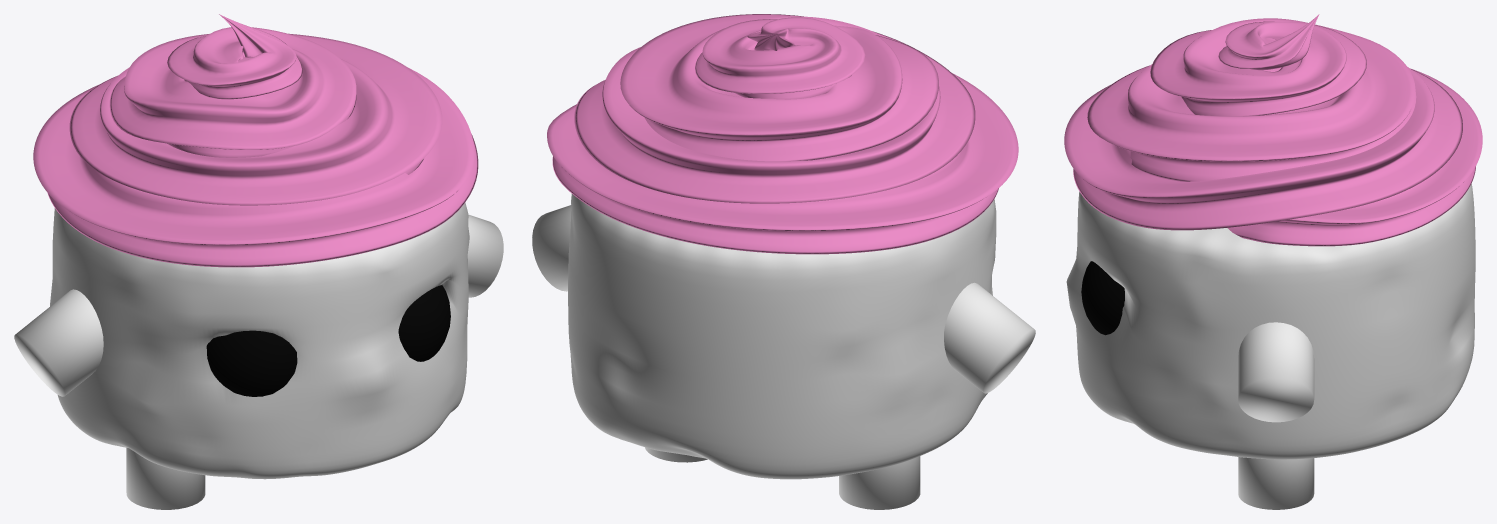
File: senor_malvavisco2.fbx
3 renders of one model, left to right at view 1: azimuth 30°, elevation 25°; view 2: azimuth 150°, elevation 25°; view 3: azimuth 270°, elevation 25°, orthographic. The views are drawn at different scales.
Parts seen in each view (by area): view 1: Cream, Cylinder, Cylinder.004, Sphere, Cylinder.001, Sphere.001, Cylinder.003; view 2: Cylinder, Cream, Cylinder.004, Cylinder.001, Cylinder.003; view 3: Cylinder, Cream, Cylinder.003, Cylinder.002, Sphere.001.
Boxes of the visible parts, x1,y1,x2,y2 form: Cream: (33,14,478,267); Cylinder: (50,202,469,479); Cylinder.004: (14,289,103,396); Sphere: (206,330,297,396); Cylinder.001: (126,447,205,509); Sphere.001: (398,285,450,361); Cylinder.003: (467,214,503,297); Cylinder: (568,194,996,479); Cream: (547,14,1018,254); Cylinder.004: (944,282,1035,393); Cylinder.001: (839,456,920,509); Cylinder.003: (532,205,571,291); Cylinder: (1066,184,1475,459); Cream: (1064,14,1482,246); Cylinder.003: (1238,322,1314,422); Cylinder.002: (1238,457,1314,509); Sphere.001: (1081,261,1124,335).
Bounding box in the file's own units: 259 × 233 × 207.
